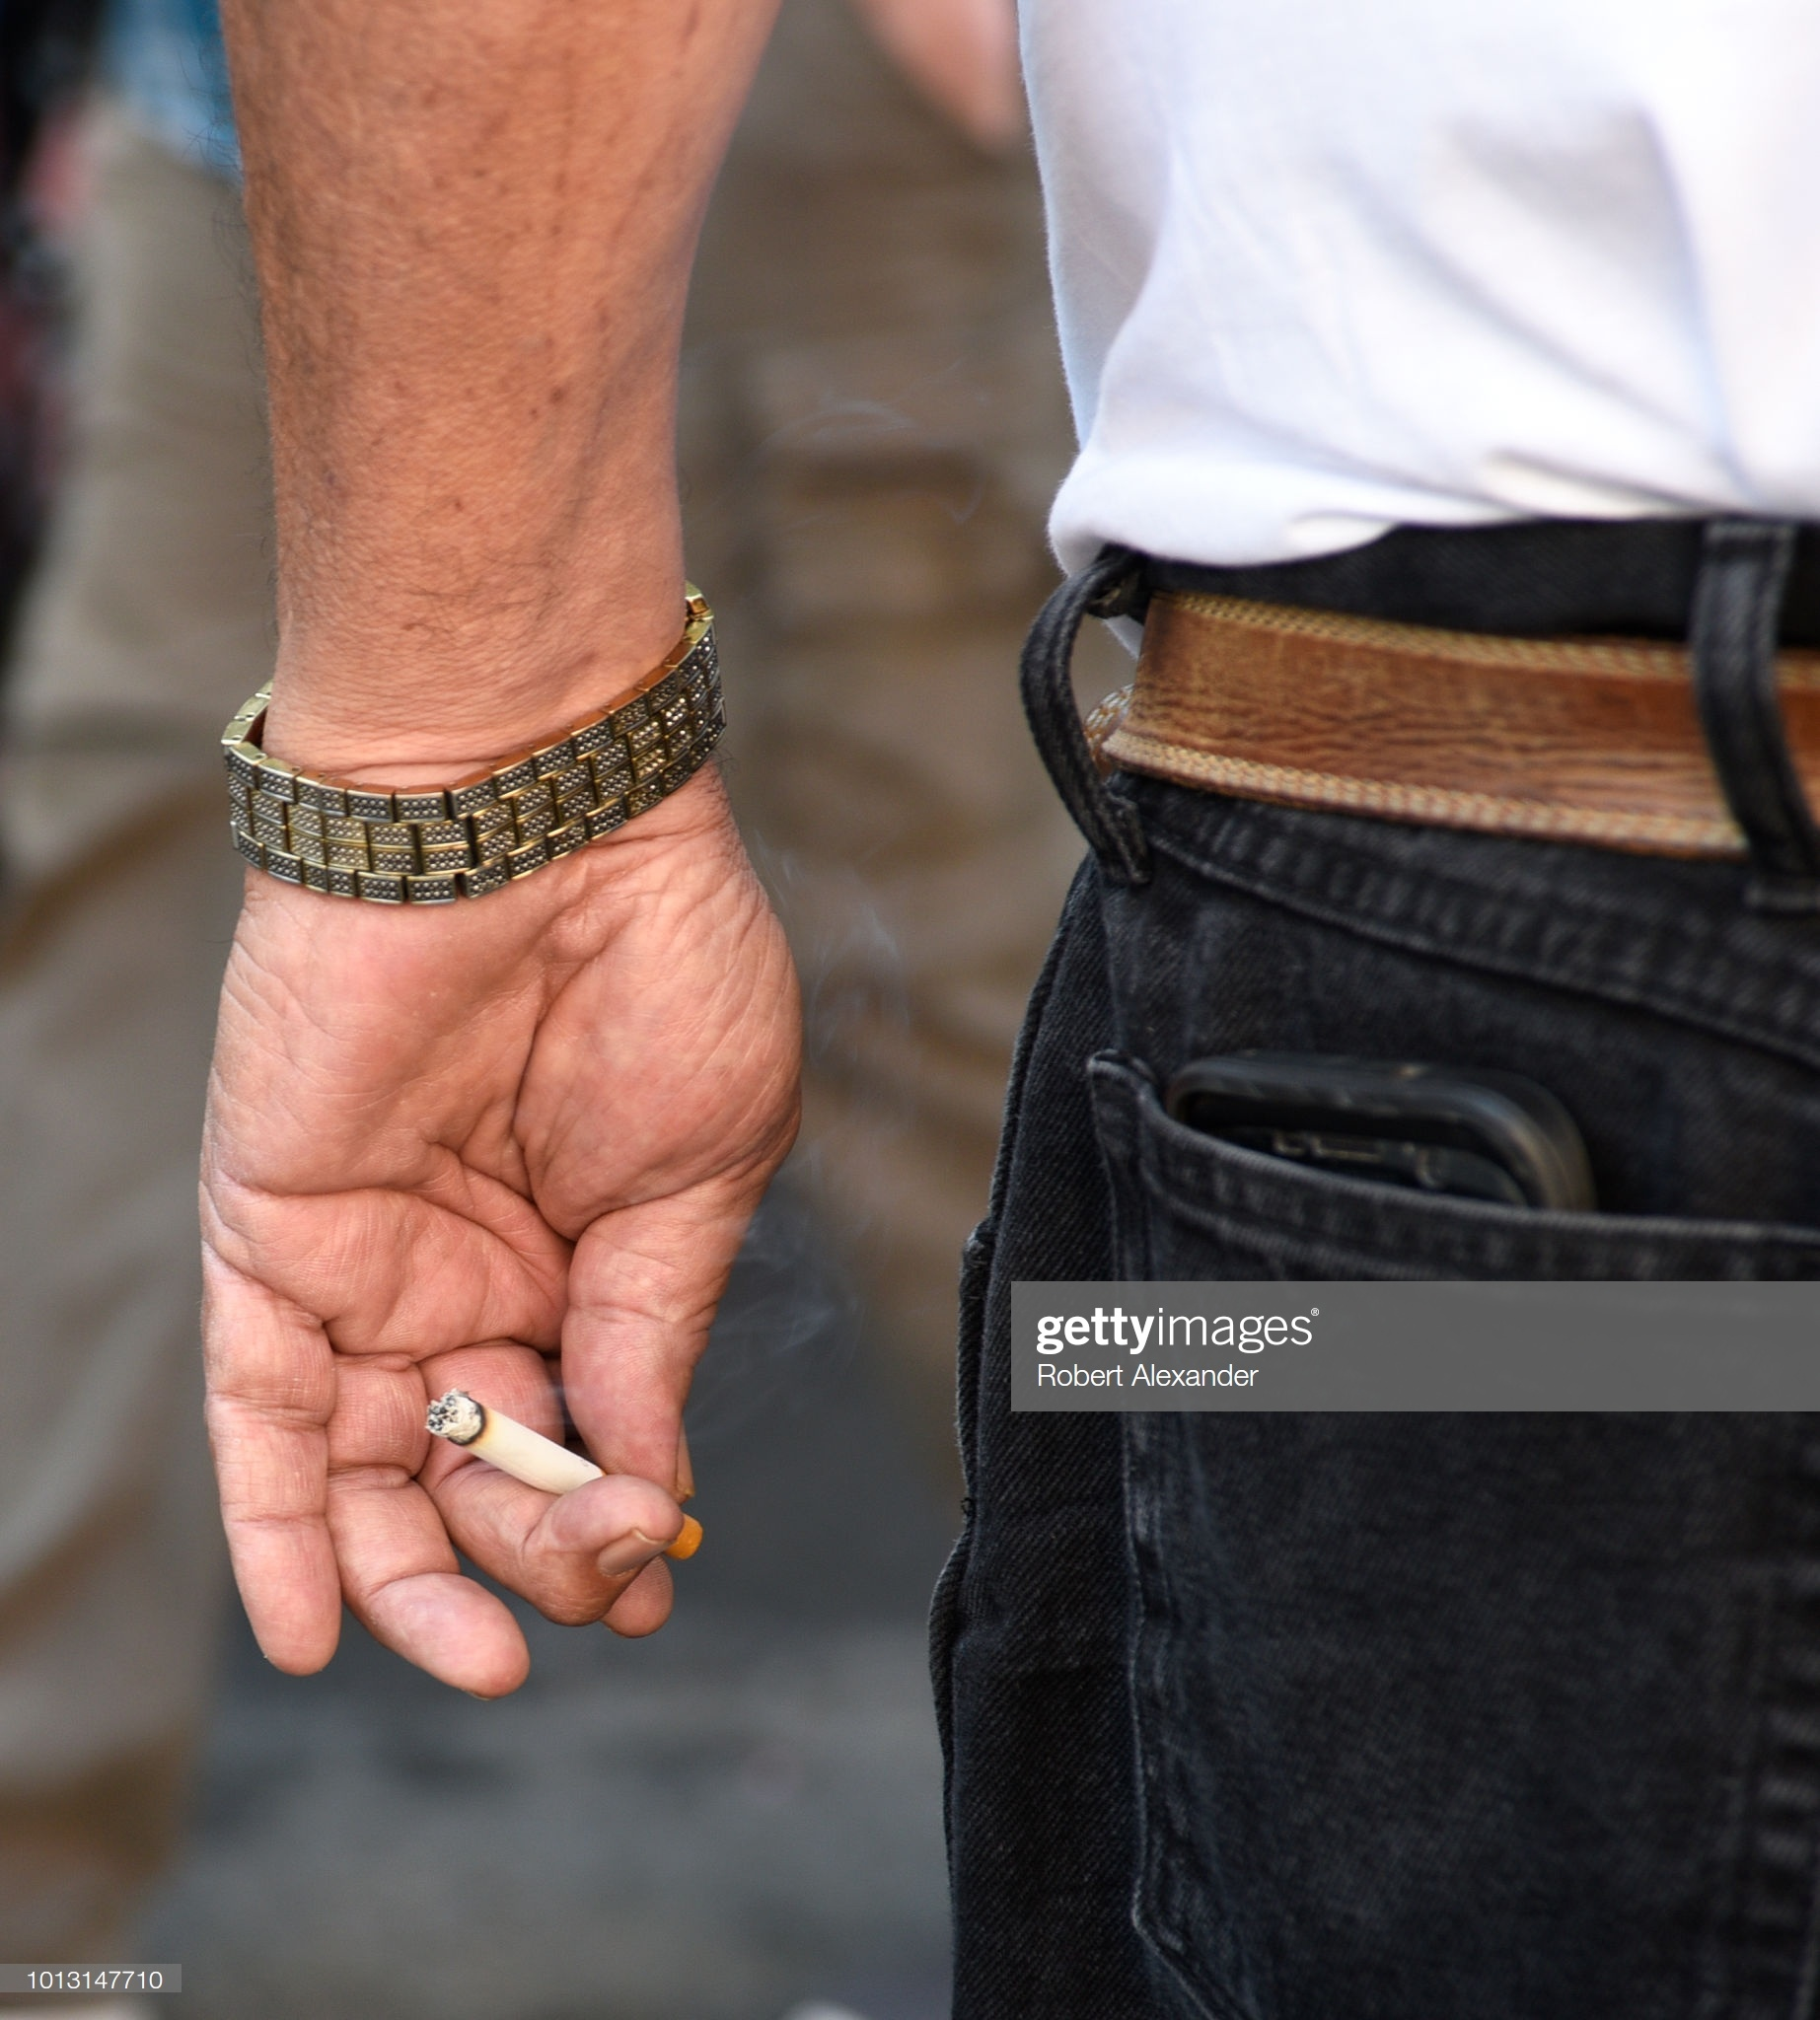sigaretta: (415, 1382, 741, 1570)
